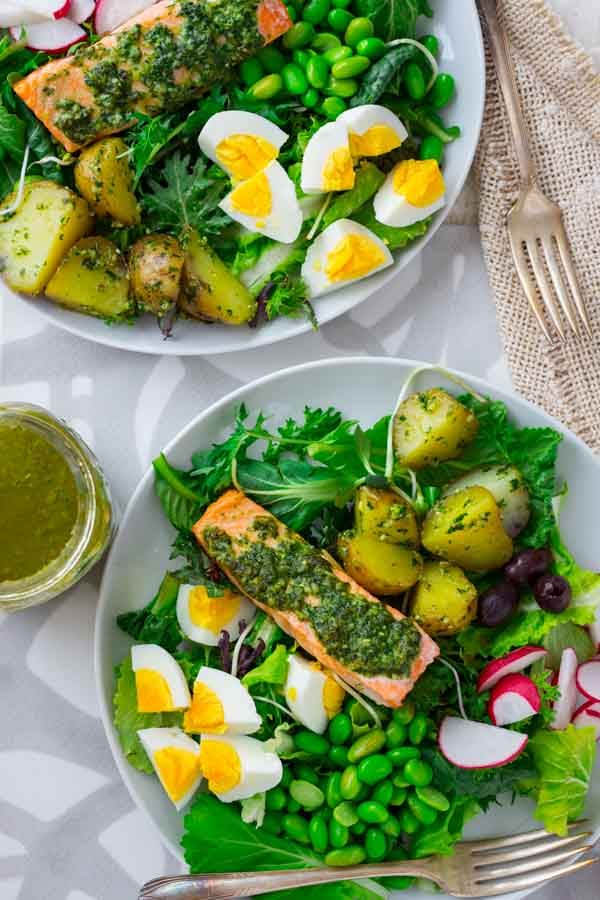boiled peas: (306, 742, 434, 854)
chopped lettuce: (227, 416, 345, 489)
fried egg: (218, 119, 283, 227)
